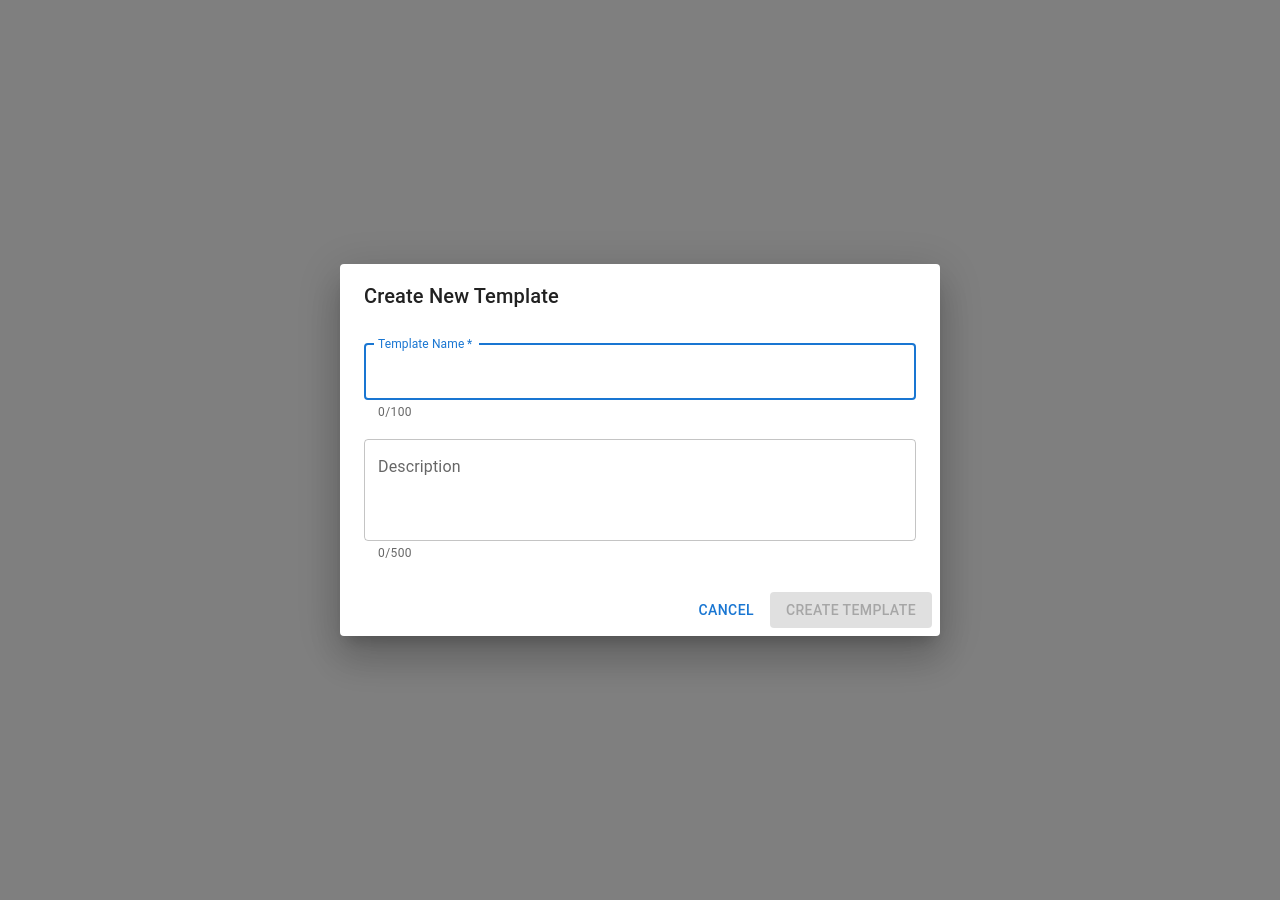
TemplateCreationDialog › enables create button when valid name is provided
Type "Valid Template Name" into the field labelled "Template Name *". click: [640, 372]
box: [364,344,916,400]
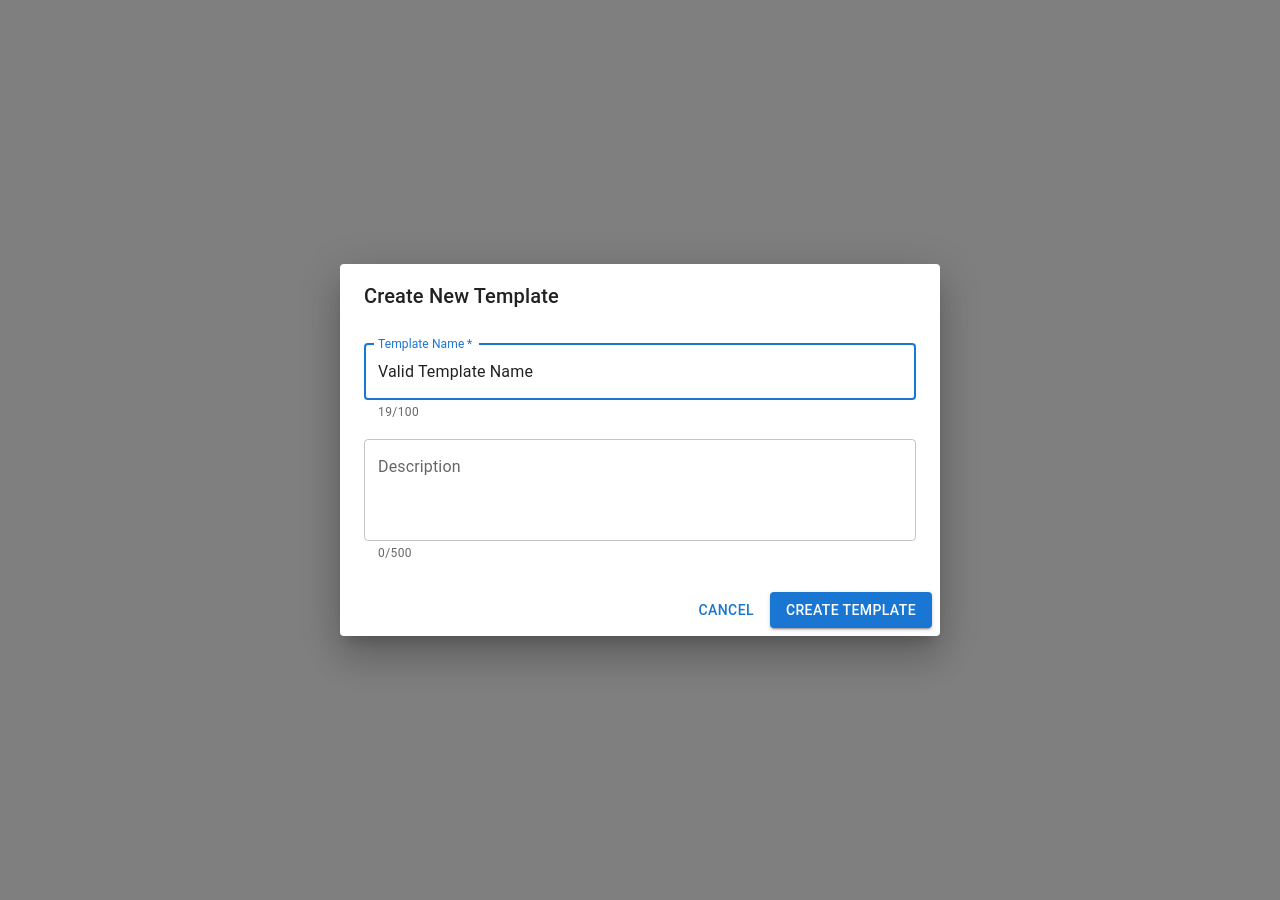
Now the button "Create Template" is enabled, box [770,592,932,628]
